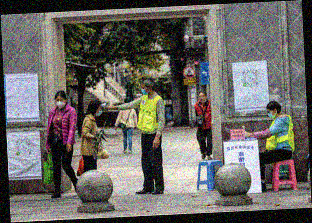mask_weared_incorrect: (198, 93, 206, 102)
with_mask: (55, 97, 66, 108), (140, 83, 148, 96), (267, 109, 275, 120), (95, 105, 103, 116)
